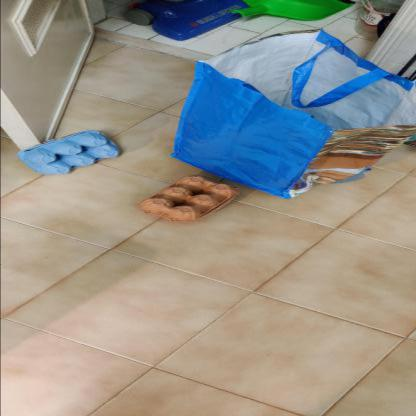Carton: (139, 176, 239, 223), (18, 130, 120, 175)
Plastic bag - wrapper: (168, 27, 416, 199)
